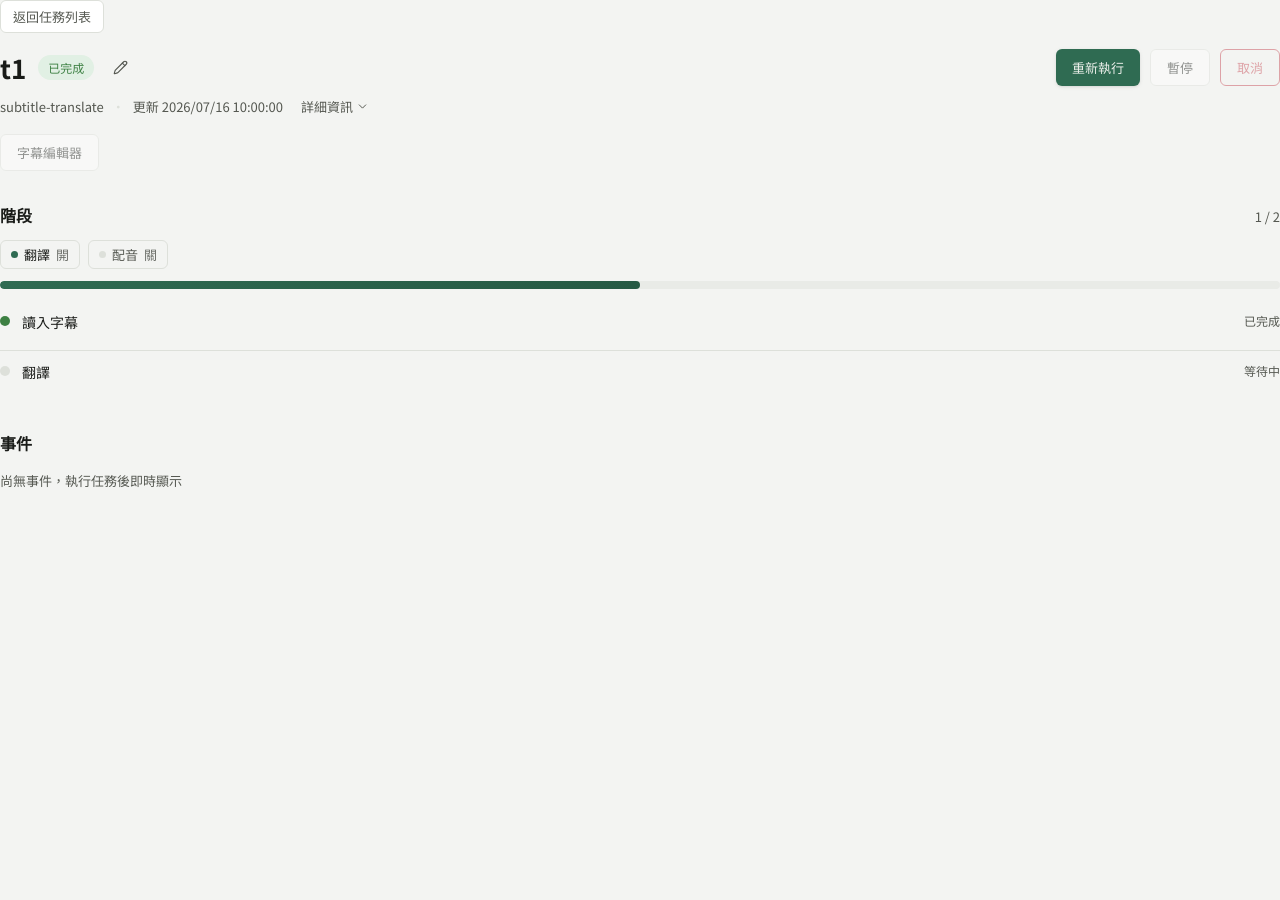
rerun confirmation dialog aborts on cancel
This screenshot has width=1280, height=900.
What coordinates should you click on to do the following:
click the button "重新執行"
I would click on:
 (1098, 68)
Its box is 1056,49 -> 1140,86.
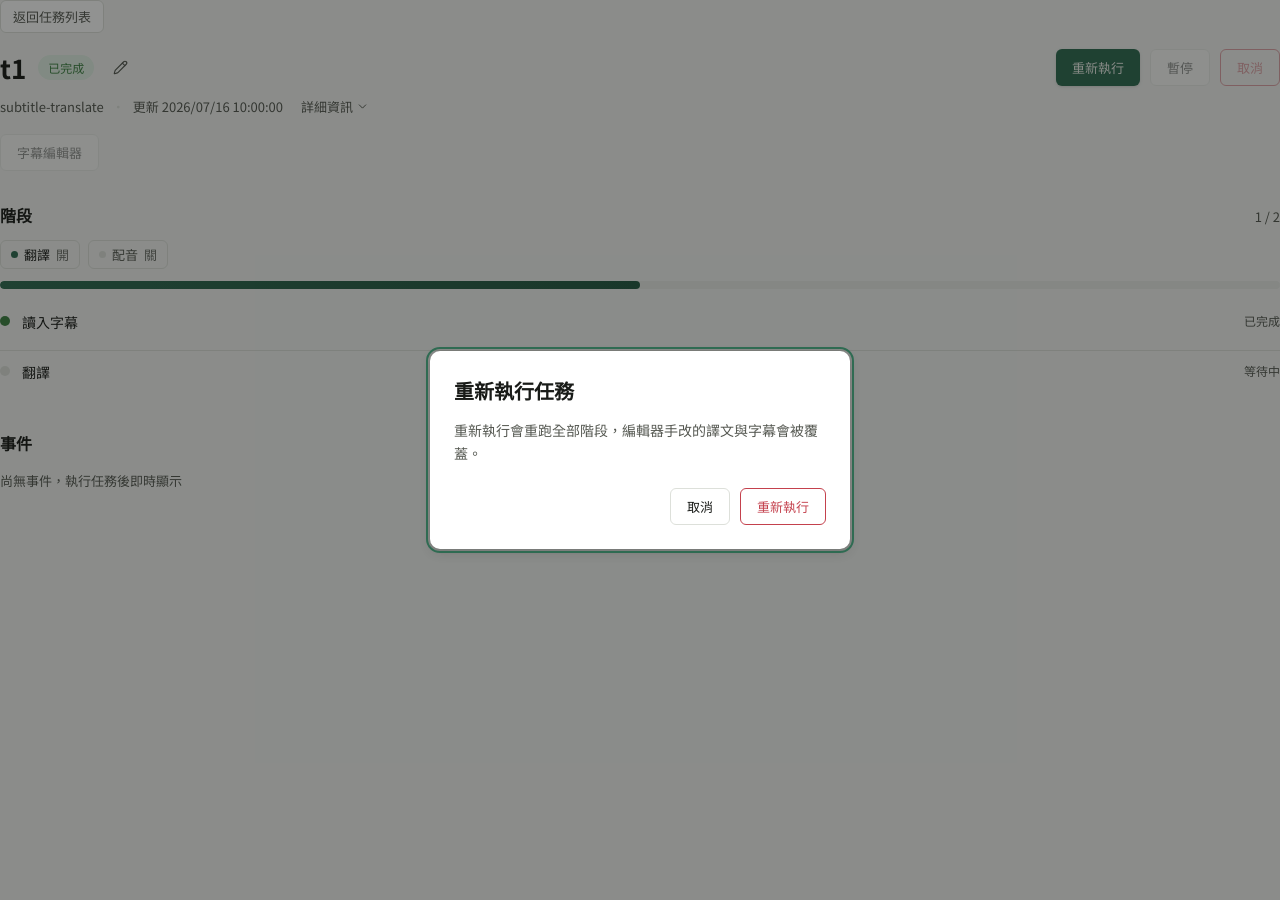
What coordinates should you click on to do the following:
click the button "取消"
I would click on:
 (700, 506)
Its box is 670,488 -> 730,525.
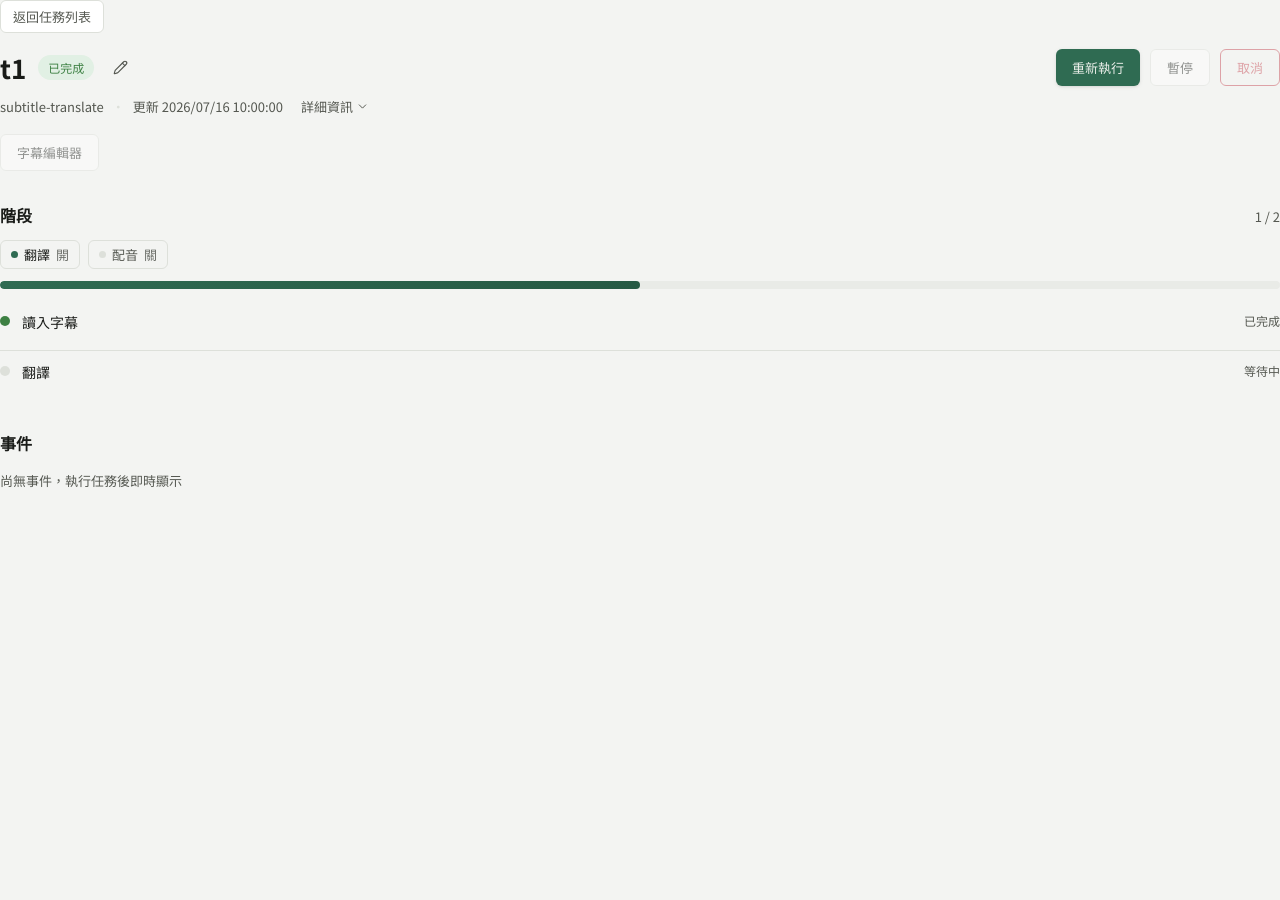
Check: the dialog is gone
